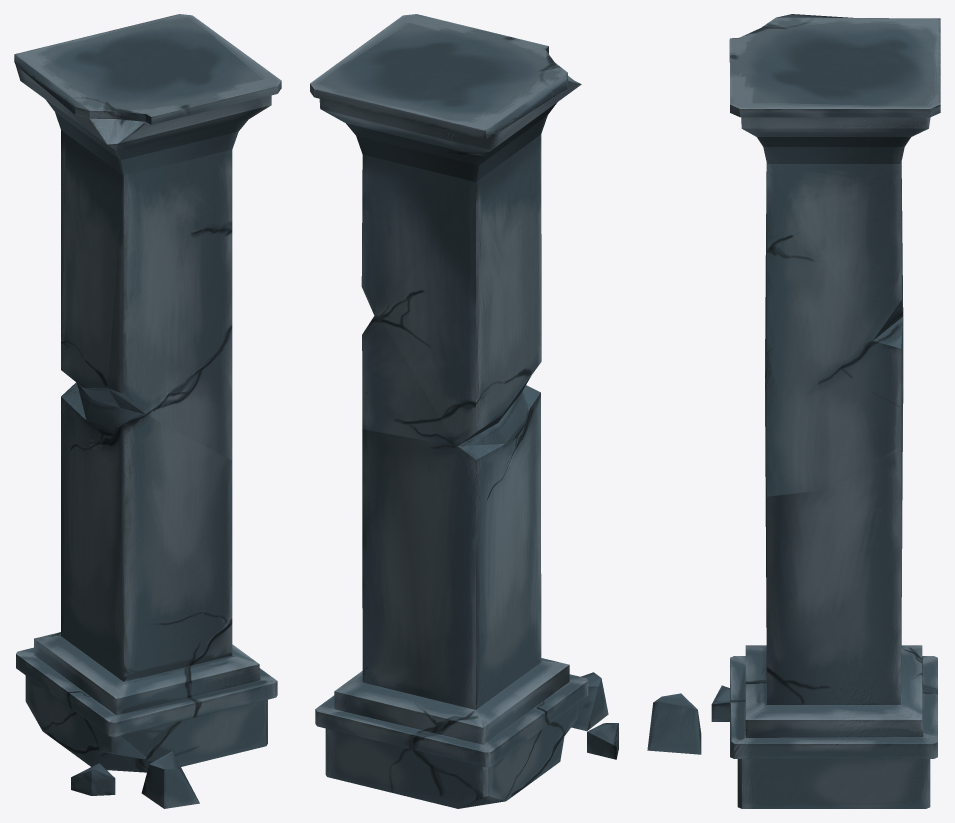
File: Props_Pillar.FBX
3 renders of one model, left to right at view 1: azimuth 30°, elevation 25°; view 2: azimuth 150°, elevation 25°; view 3: azimuth 270°, elevation 25°, orthographic. The views are drawn at different scales.
Parts seen in each view (by area): view 1: pillar top, pillar_btm; view 2: pillar_btm, pillar top; view 3: pillar top, pillar_btm.
Boxes of the visible parts, bbox=[...] form: pillar top: bbox=[14, 14, 281, 460]; pillar_btm: bbox=[16, 382, 277, 808]; pillar_btm: bbox=[315, 385, 618, 808]; pillar top: bbox=[310, 14, 581, 446]; pillar top: bbox=[729, 14, 940, 496]; pillar_btm: bbox=[647, 393, 937, 808].
Bounding box in the file's own units: 56.91 × 173 × 65.09.
